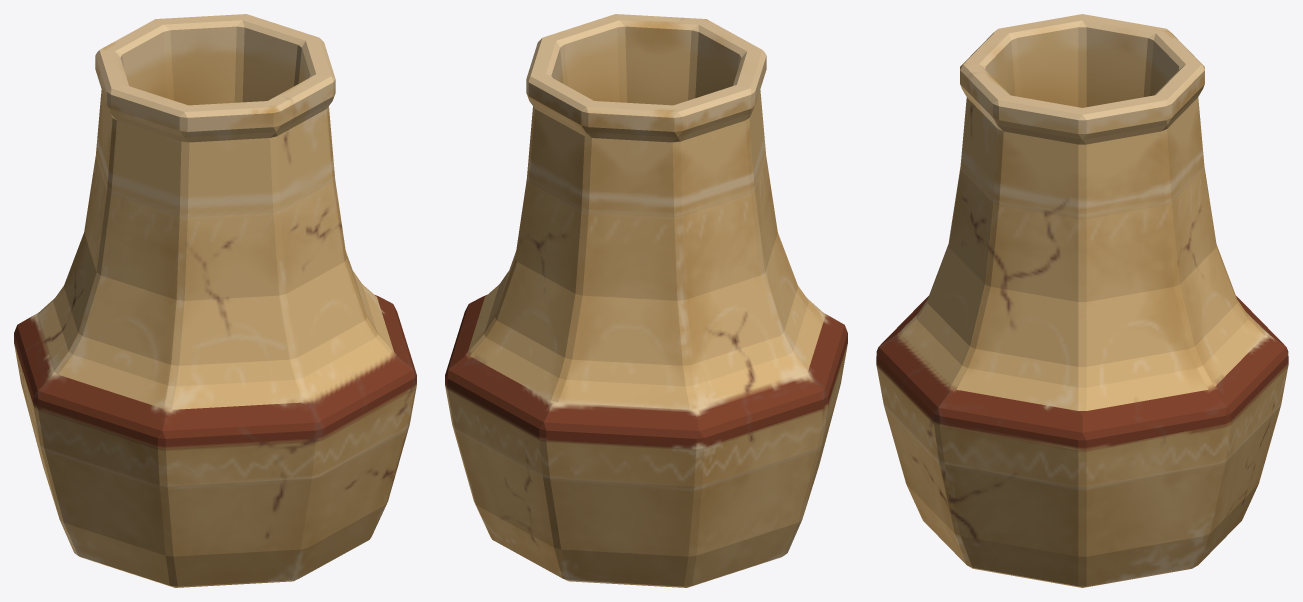
Rendered from vase4.fbx.
3 renders of one model, left to right at view 1: azimuth 30°, elevation 25°; view 2: azimuth 150°, elevation 25°; view 3: azimuth 270°, elevation 25°, orthographic.
Parts seen in each view (by area): view 1: vase4; view 2: vase4; view 3: vase4.
Boxes of the visible parts, x1,y1,x2,y2 form: vase4: (14,14,416,587); vase4: (445,14,847,587); vase4: (876,14,1288,587).
Bounding box in the file's own units: 32.1 × 39.39 × 32.1.
